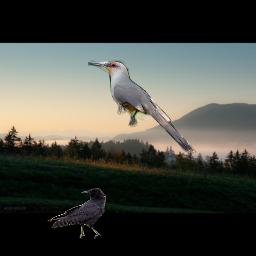Crow: (47, 188, 106, 239)
Cuckoo: (88, 60, 196, 155)
